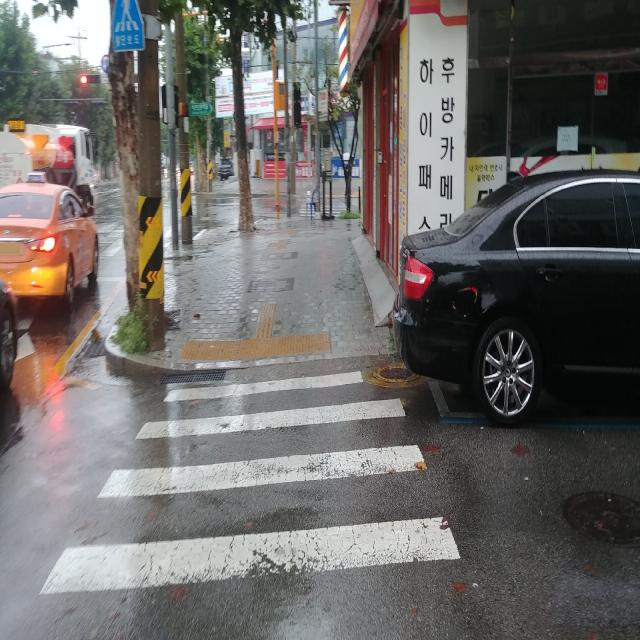횡단보도: (36, 368, 463, 603)
